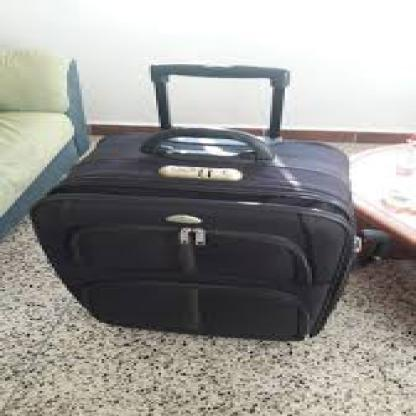maleta: (30, 122, 376, 350)
